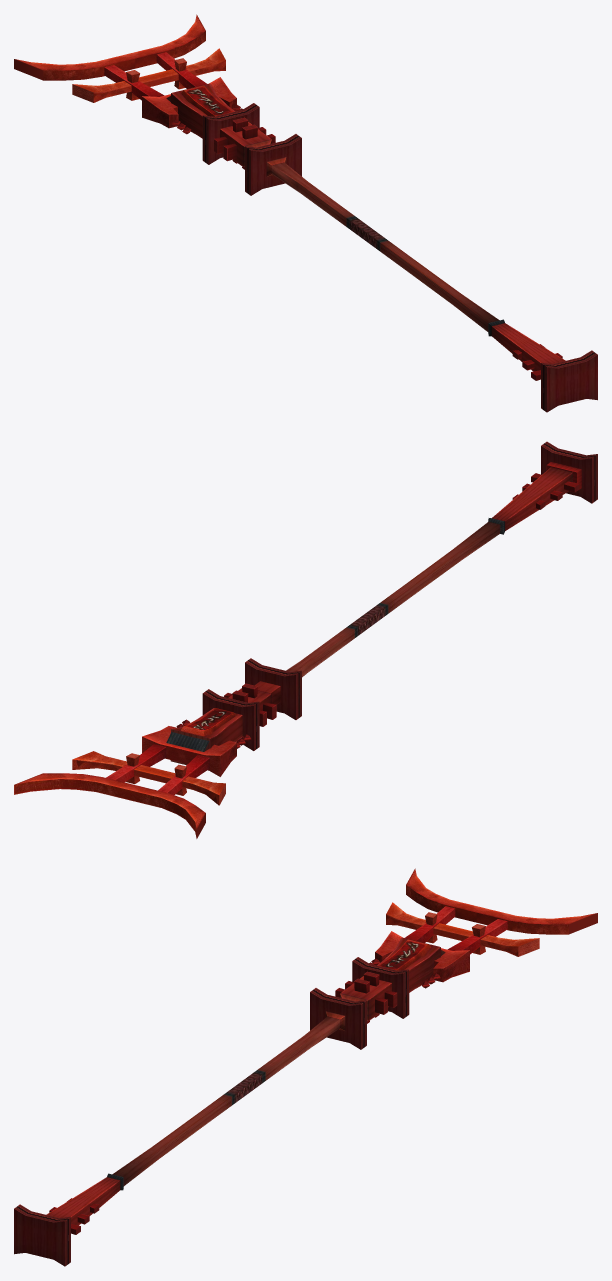
Rendered from wand_wand_9_wand_9.glb.
3 views of the same model, one above another, from view 1: azimuth 30°, elevation 25°; view 2: azimuth 150°, elevation 25°; view 3: azimuth 330°, elevation 25° (orthographic).
Bounding box in the file's own units: 0.484 × 0.1151 × 2.14.
Materials: 1 (1 with a texture image).
